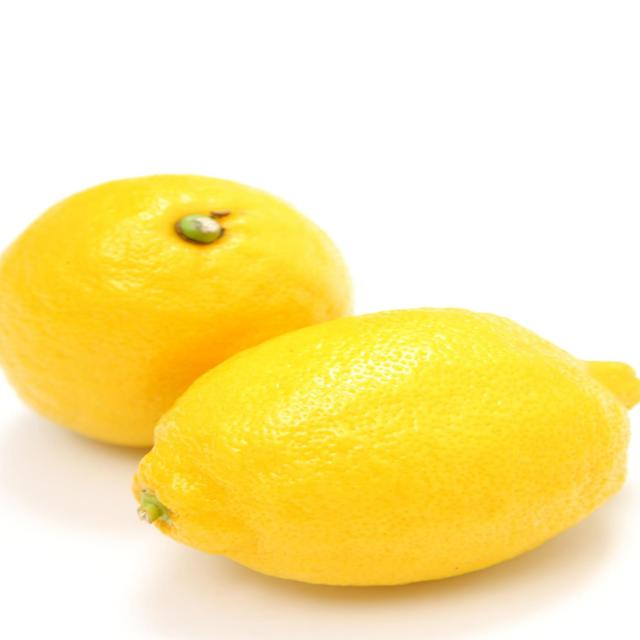lemon: (124, 301, 640, 592)
